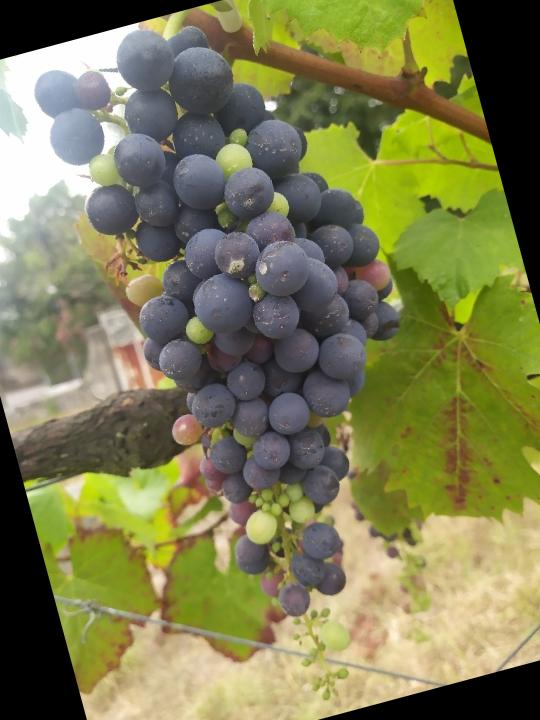grape: (24, 0, 495, 720)
